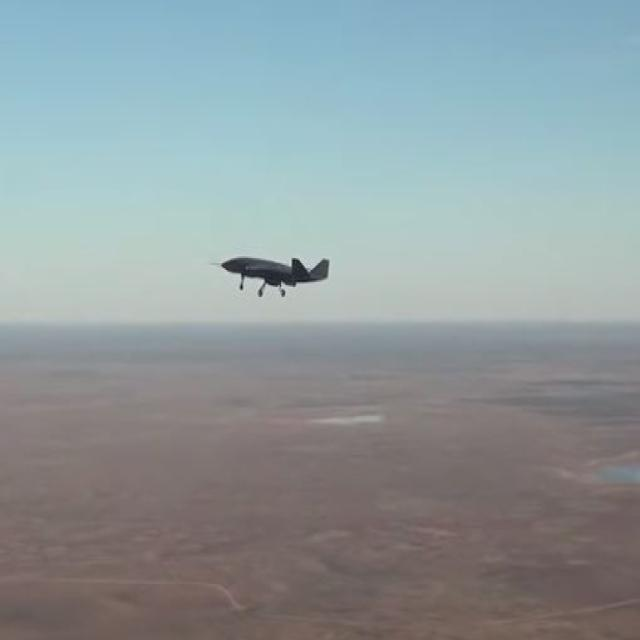iha: (239, 250, 299, 301)
